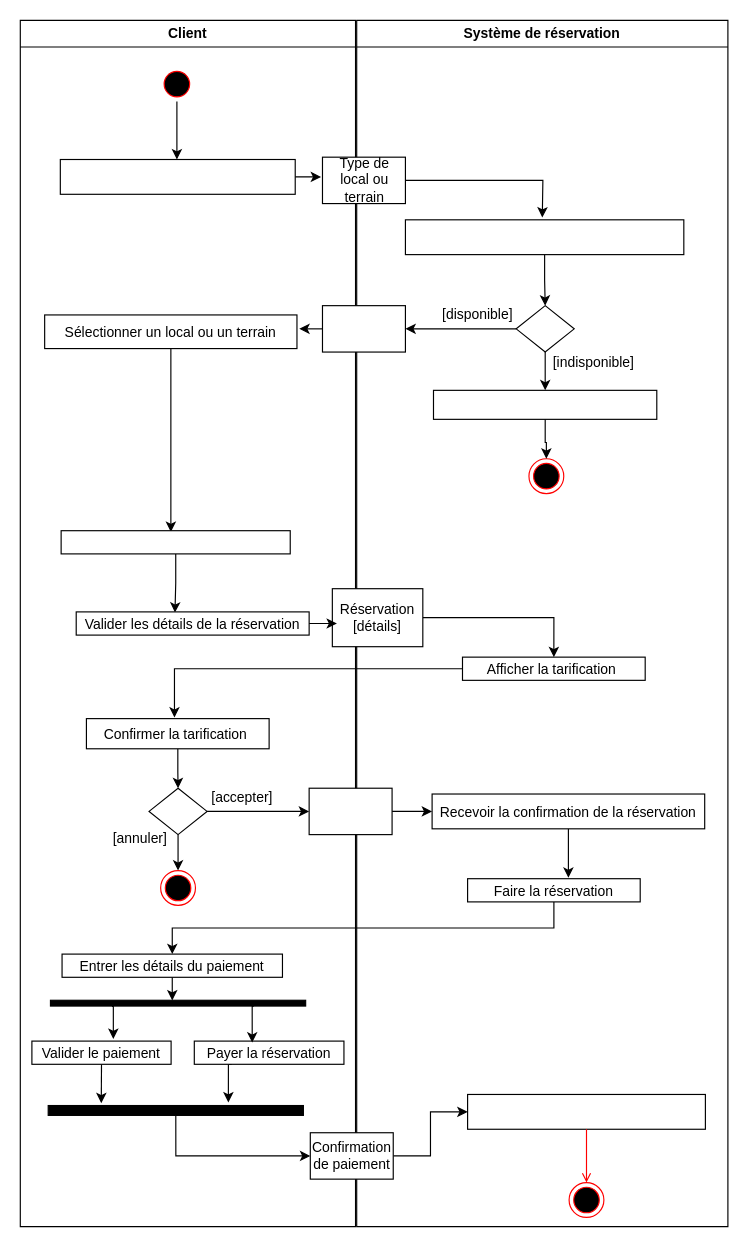
Some shapes in this 748 by 1247 pixel diagram are drawn without their labels. Here are the shapes that lost their labels. From the top down, the centre of each, then its label:
At pixel 177 176: "Identifier le type de local ou terrain".
At pixel 544 237: "Consulter locaux ou terrains disponibles".
At pixel 363 328: "Liste des locaux ou terrains".
At pixel 544 404: "Notifier client".
At pixel 175 542: "Entrer les détails de la réservation".
At pixel 350 811: "Confirmation de réservation".
At pixel 585 1111: "Recevoir la confirmation du paiement".
